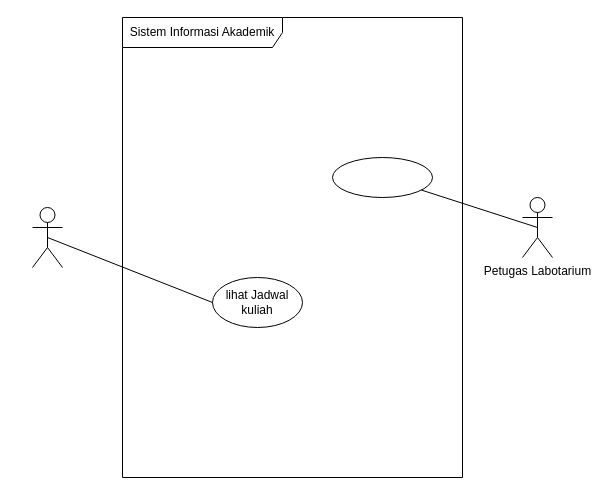
This 608x495 diagram has some shape labels left out. Here are the shapes that lost their labels. From the top down, the box of each, then its label:
(332, 156, 432, 198): kelola Jadwal Kuliah
(32, 206, 62, 268): Mahasiswa
